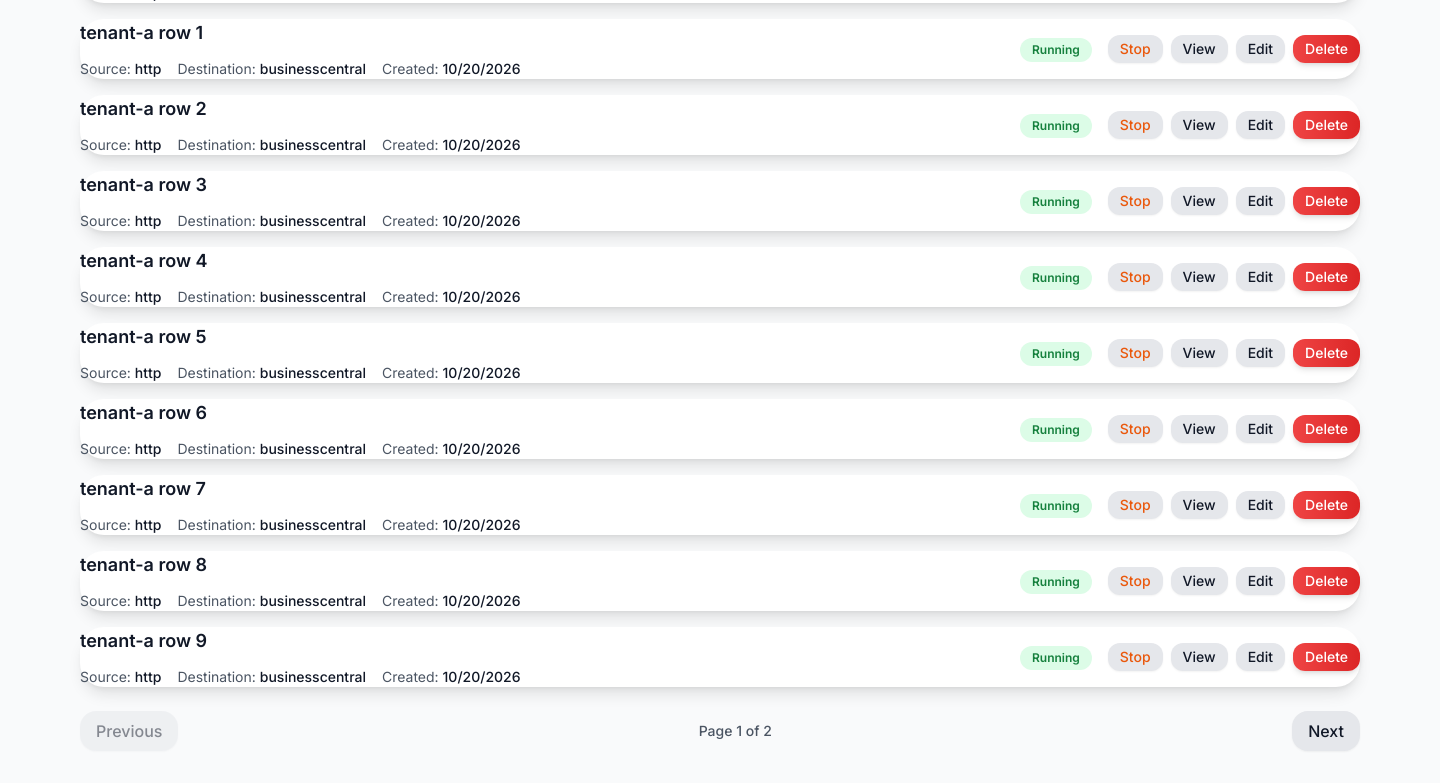
ConnectionsList: a late delete and a failed load (#515) › failed load › replaces the previous page's rows with the error state when a page change fails
(page scrolled)
Click the button "Next": (1326, 731) [1292, 711, 1360, 751]
(page scrolled)
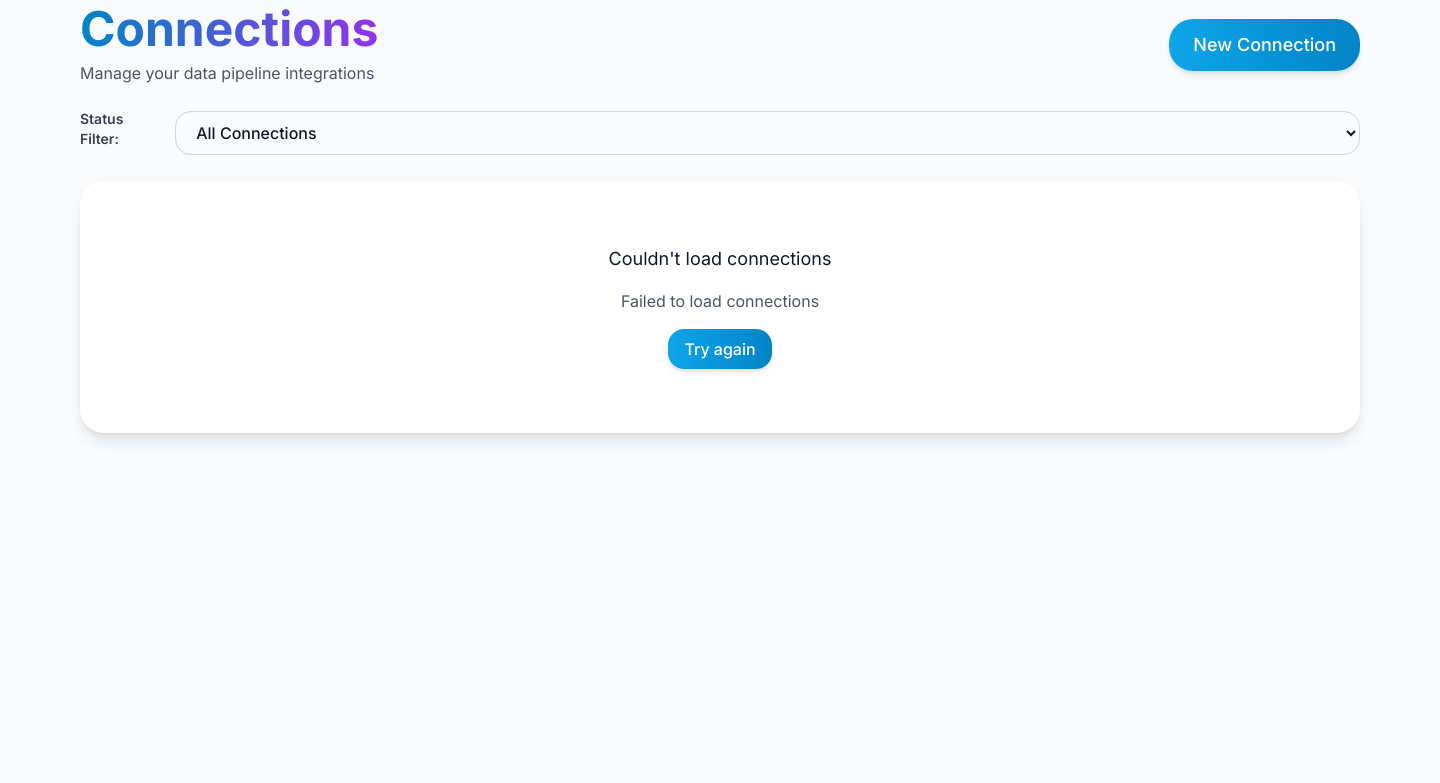
Check: the text "Couldn't load connections" is shown, box [609, 248, 831, 269]
